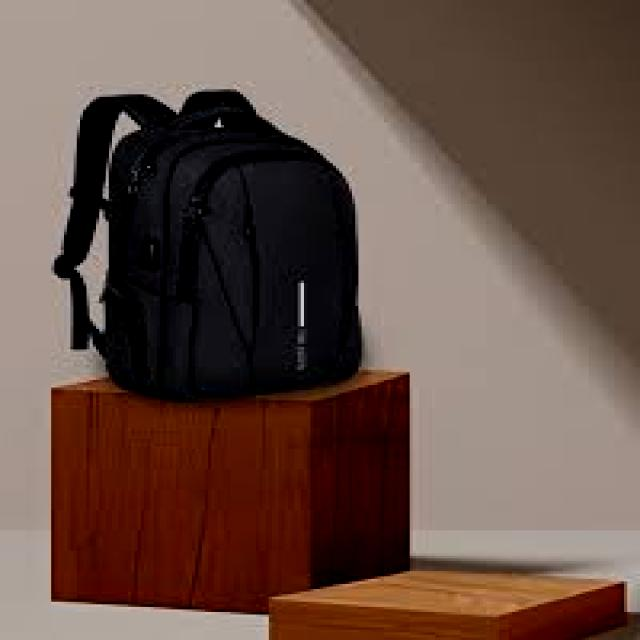backpack: (53, 88, 363, 402)
